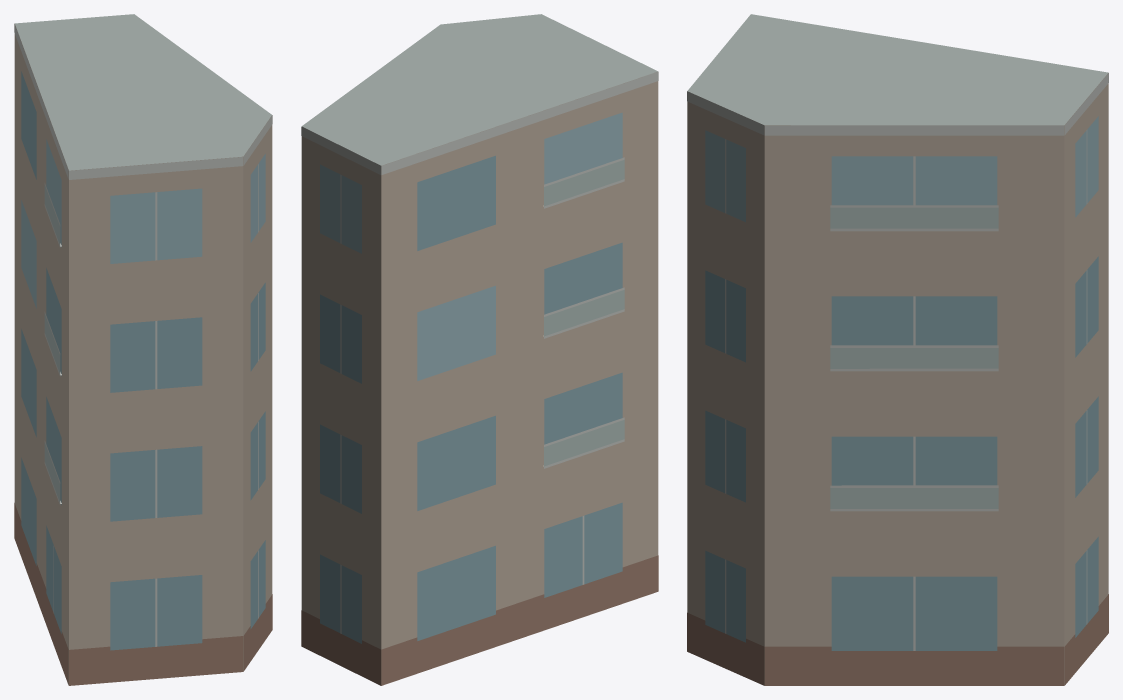
Rendered from survey-upis-32709843.glb.
3 renders of one model, left to right at view 1: azimuth 30°, elevation 25°; view 2: azimuth 150°, elevation 25°; view 3: azimuth 270°, elevation 25°, orthographic. The views are drawn at different scales.
Visible parts, largest first — view 1: survey-upis-32709843.tmp; view 2: survey-upis-32709843.tmp; view 3: survey-upis-32709843.tmp.
Part boxes in pixels (x1=…): survey-upis-32709843.tmp: x1=14, y1=14, x2=272, y2=685; survey-upis-32709843.tmp: x1=301, y1=14, x2=658, y2=685; survey-upis-32709843.tmp: x1=687, y1=14, x2=1108, y2=685.
Bounding box in the file's own units: 5.71 × 13.3 × 9.07.
